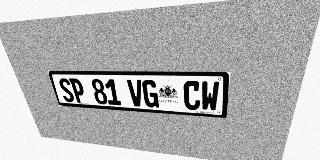1: (103, 79, 121, 105)
8: (90, 79, 108, 104)
C: (183, 81, 201, 110)
G: (142, 80, 159, 108)
P: (69, 78, 87, 103)
S: (57, 78, 75, 102)
V: (127, 79, 144, 107)
W: (201, 81, 220, 112)
